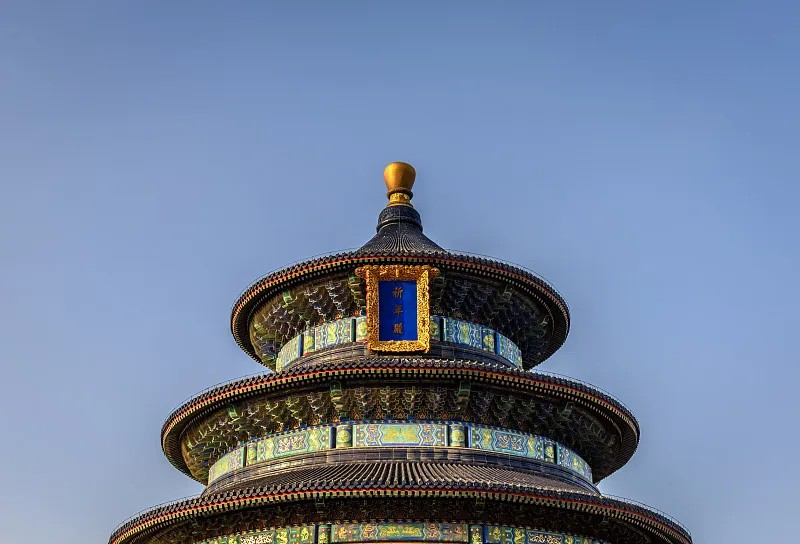Heaven: (106, 161, 697, 544)
